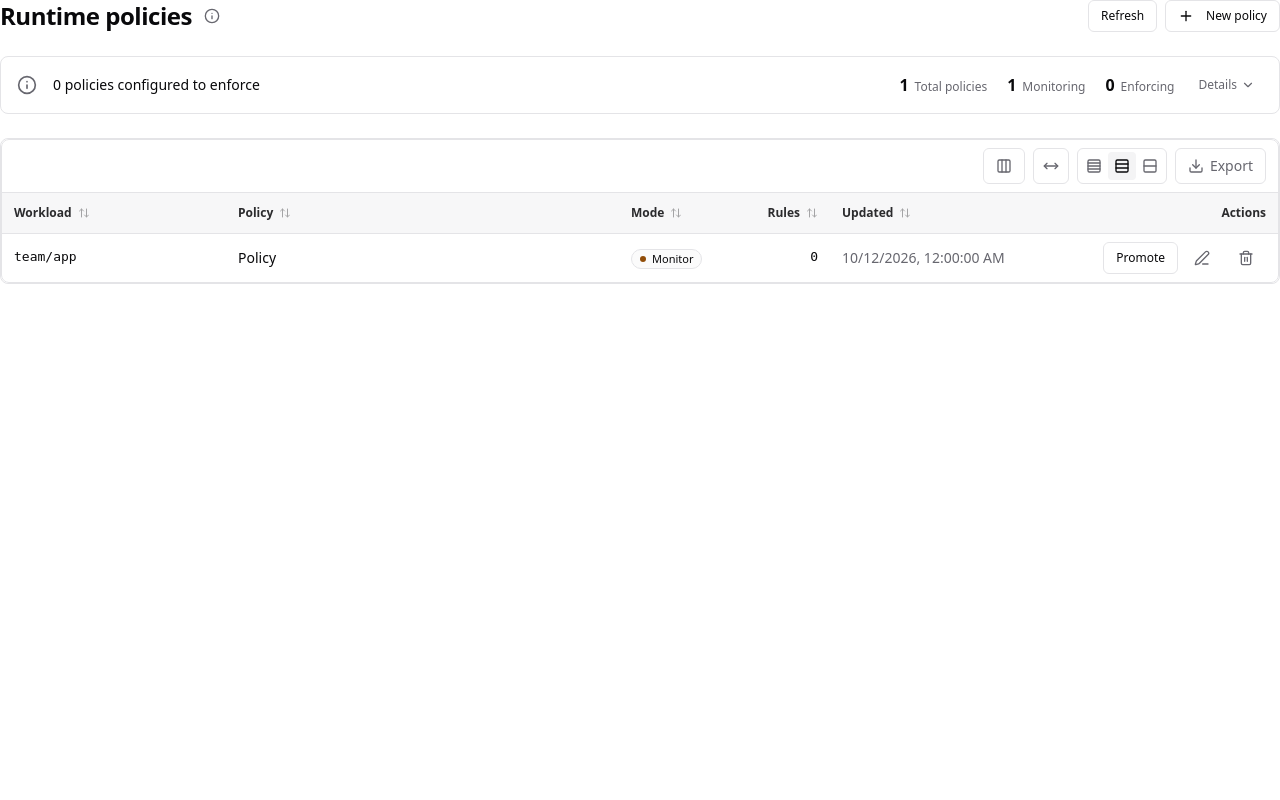
Test: blocks promotion when its match preview fails and shows a retry action
expect the element with test id "runtime-policy-row-policy" is shown: met, box [1103, 242, 1266, 274]
Step 1. Click the button with test id "runtime-policy-promote-policy" → (1141, 258), box [1103, 242, 1178, 274]
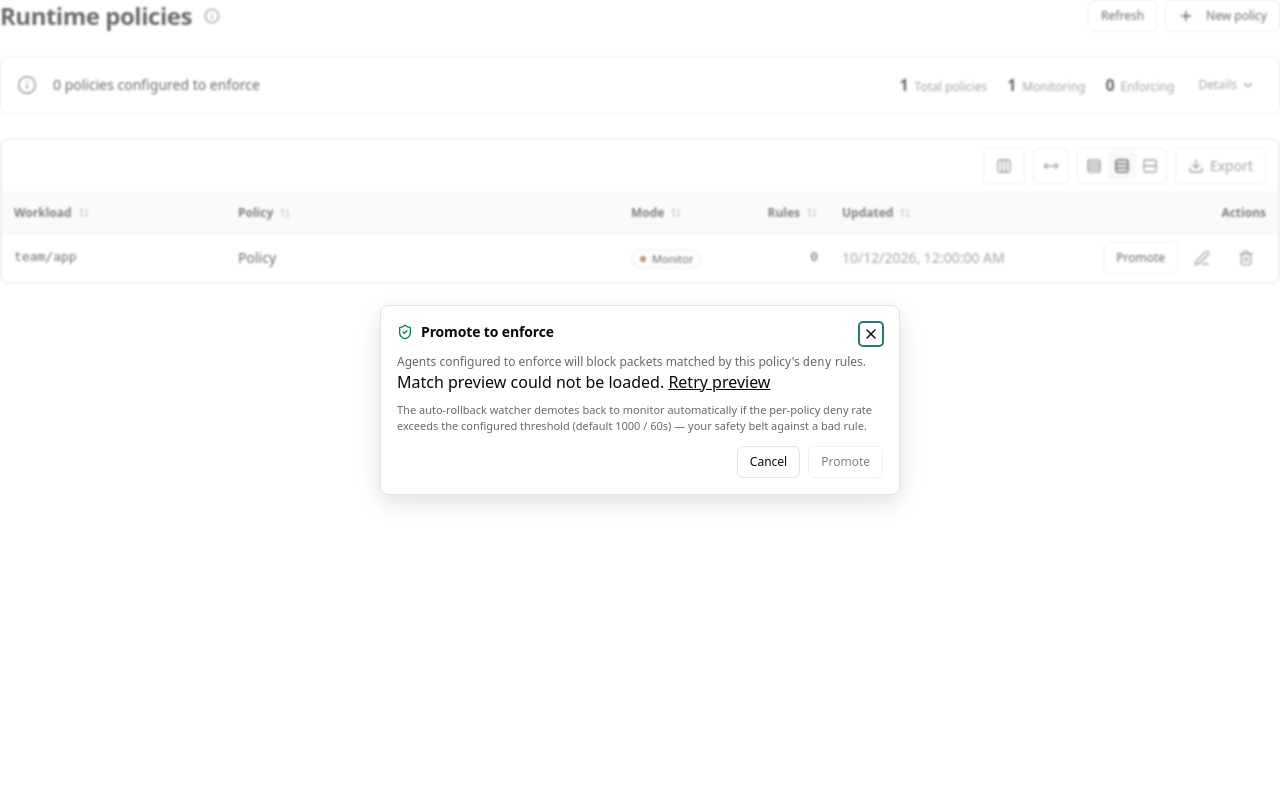
expect the text "Match preview could not be loaded" is shown: met, box [397, 371, 668, 393]
expect the button with test id "runtime-policy-promote-confirm" is disabled: met, box [808, 446, 883, 478]
expect the text "Retry preview" is shown: met, box [668, 370, 770, 394]
